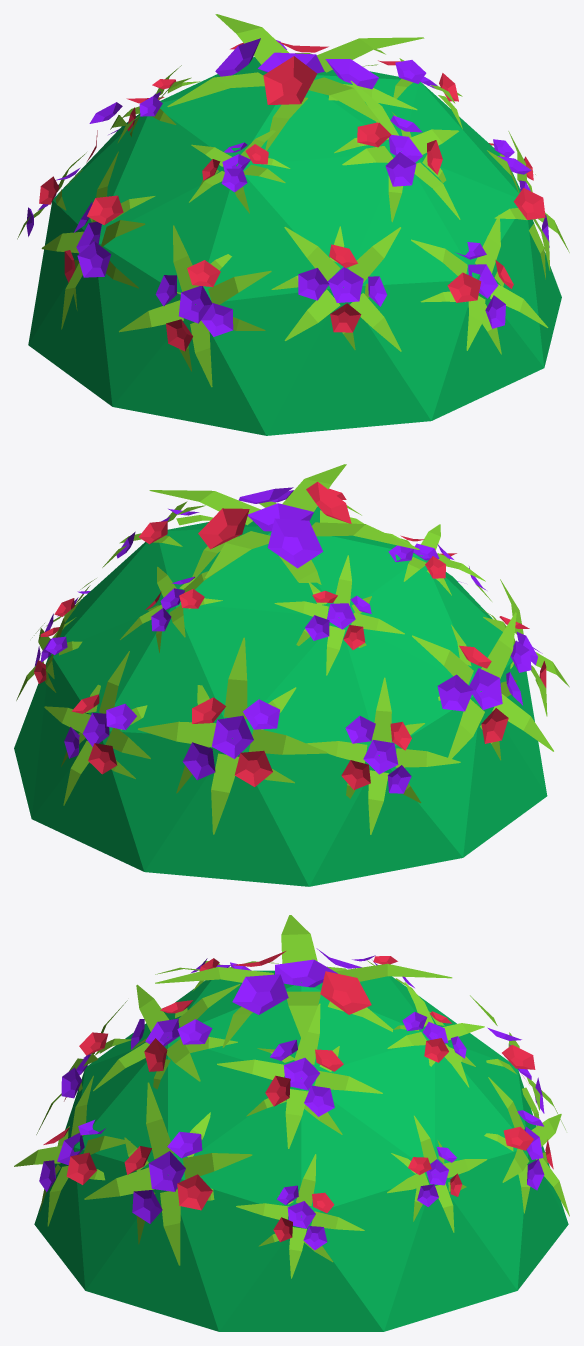
Rendered from Flowers.gltf.
The picture shows the model from 3 angles, top to bottom: view 1: azimuth 30°, elevation 25°; view 2: azimuth 150°, elevation 25°; view 3: azimuth 270°, elevation 25°; orthographic projection. The views are drawn at different scales.
Visible parts, largest first — view 1: Flowers1; view 2: Flowers1; view 3: Flowers1.
Boxes of the visible parts, bbox=[...] form: Flowers1: bbox=[17, 14, 569, 435]; Flowers1: bbox=[14, 464, 569, 886]; Flowers1: bbox=[14, 915, 569, 1331].
Size of the model in its own units: 2.13 by 1.12 by 2.08.
